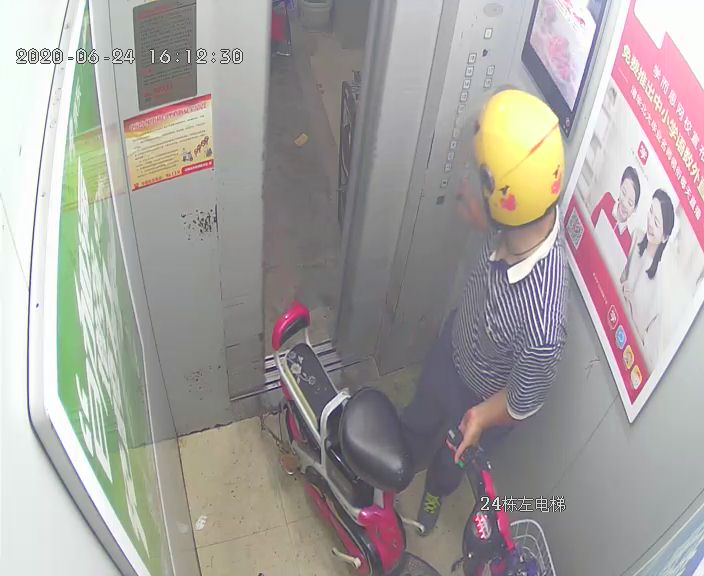Electric-bicycle: (263, 306, 545, 576)
